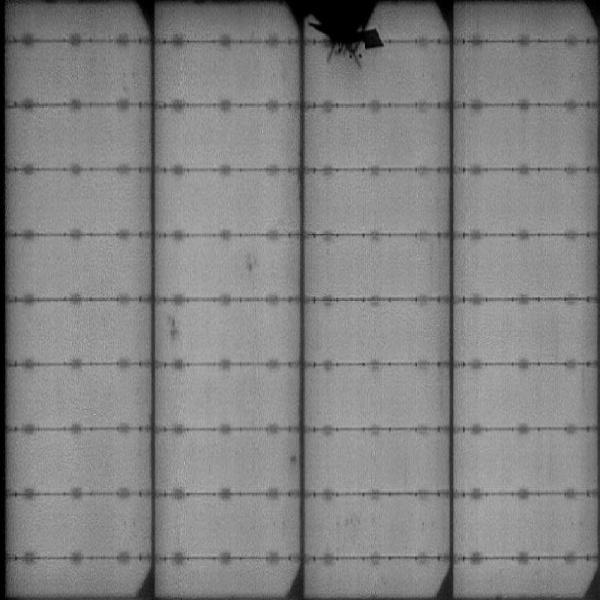broken: (303, 1, 388, 65)
